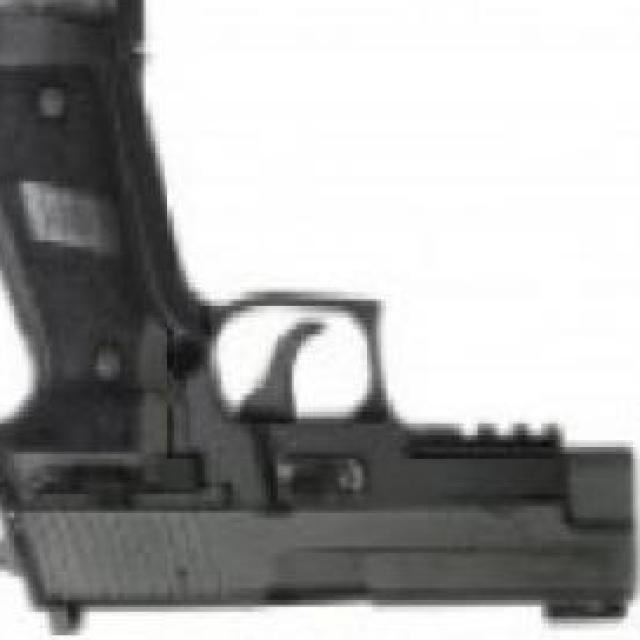pistol: (1, 0, 631, 636)
